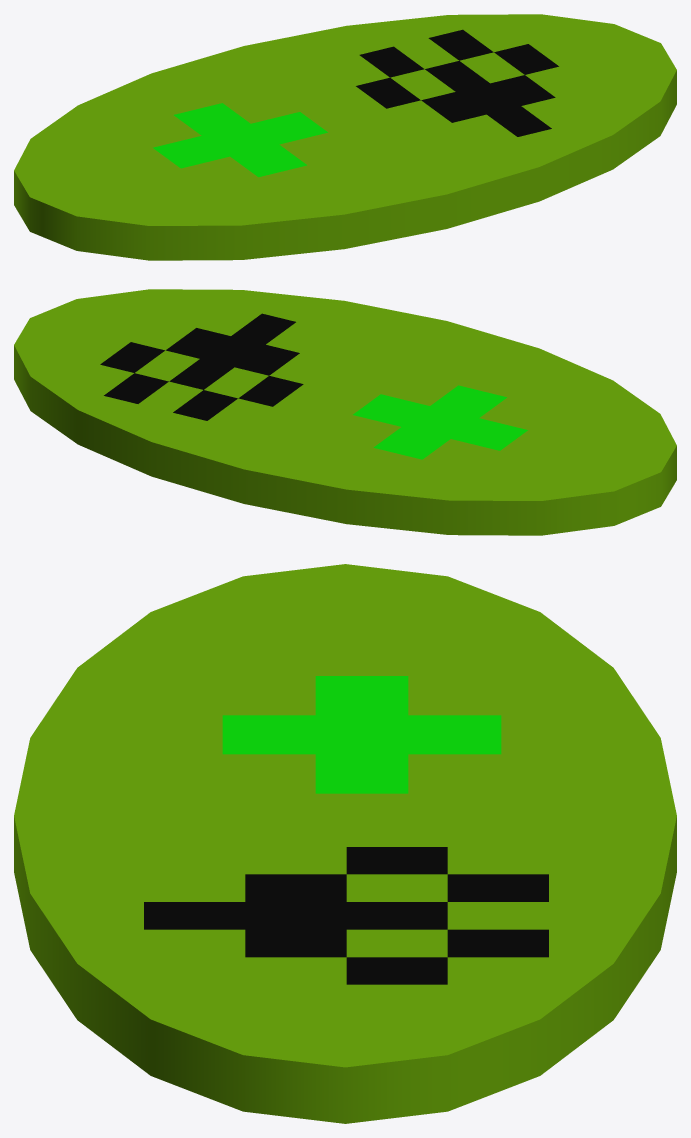
File: growUpObj.fbx
The picture shows the model from 3 angles, top to bottom: view 1: azimuth 30°, elevation 25°; view 2: azimuth 150°, elevation 25°; view 3: azimuth 270°, elevation 25°; orthographic projection. The views are drawn at different scales.
Parts seen in each view (by area): view 1: polySurface2, polySurface1, pCube1; view 2: polySurface2, polySurface1, pCube1; view 3: polySurface2, polySurface1, pCube1.
Boxes of the visible parts, left/top/right/bottom form: polySurface2: left=14, top=14, right=676, bottom=260; polySurface1: left=356, top=29, right=558, bottom=136; pCube1: left=153, top=103, right=327, bottom=177; polySurface2: left=14, top=289, right=676, bottom=535; polySurface1: left=100, top=313, right=303, bottom=420; pCube1: left=353, top=385, right=527, bottom=459; polySurface2: left=14, top=564, right=676, bottom=1123; polySurface1: left=144, top=847, right=548, bottom=984; pCube1: left=222, top=676, right=501, bottom=793.
Size of the model in its own units: 0.6115 by 0.0331 by 0.3403.
